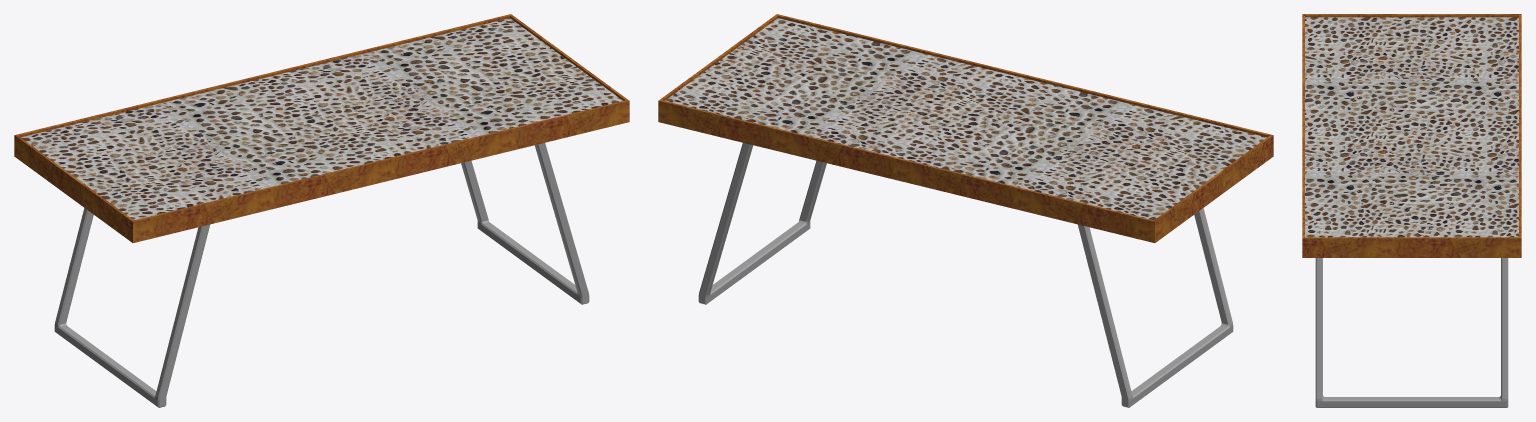
File: fit-table-library.glb
3 views of the same model, side by side, from view 1: azimuth 30°, elevation 25°; view 2: azimuth 150°, elevation 25°; view 3: azimuth 270°, elevation 25° (orthographic). The views are drawn at different scales.
Size of the model in its own units: 124 by 47.66 by 51.16.
Materials: 3 (2 with a texture image).
